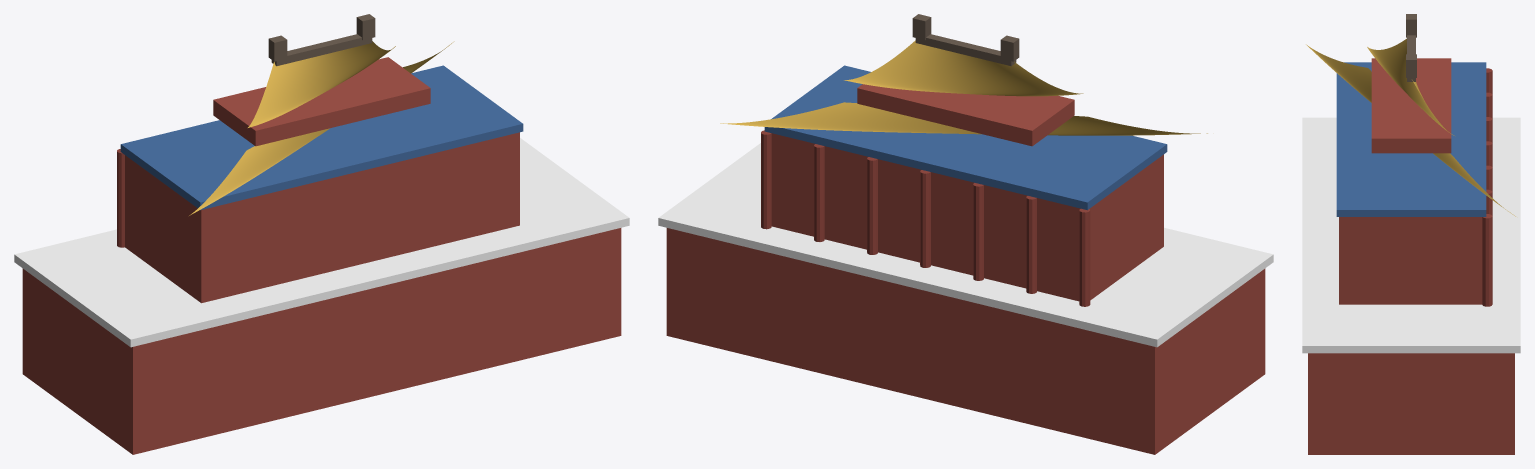
Rendered from donghuamen.glb.
3 renders of one model, left to right at view 1: azimuth 30°, elevation 25°; view 2: azimuth 150°, elevation 25°; view 3: azimuth 270°, elevation 25°, orthographic. The views are drawn at different scales.
Parts seen in each view (by area): view 1: donghuamen; view 2: donghuamen; view 3: donghuamen.
Part boxes in pixels (bbox=[...]): donghuamen: bbox=[14, 14, 629, 454]; donghuamen: bbox=[658, 14, 1273, 454]; donghuamen: bbox=[1302, 14, 1520, 454].
Size of the model in its own units: 47 by 29.4 by 19.
